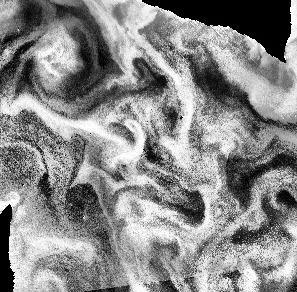CE: (9, 11, 112, 108)
